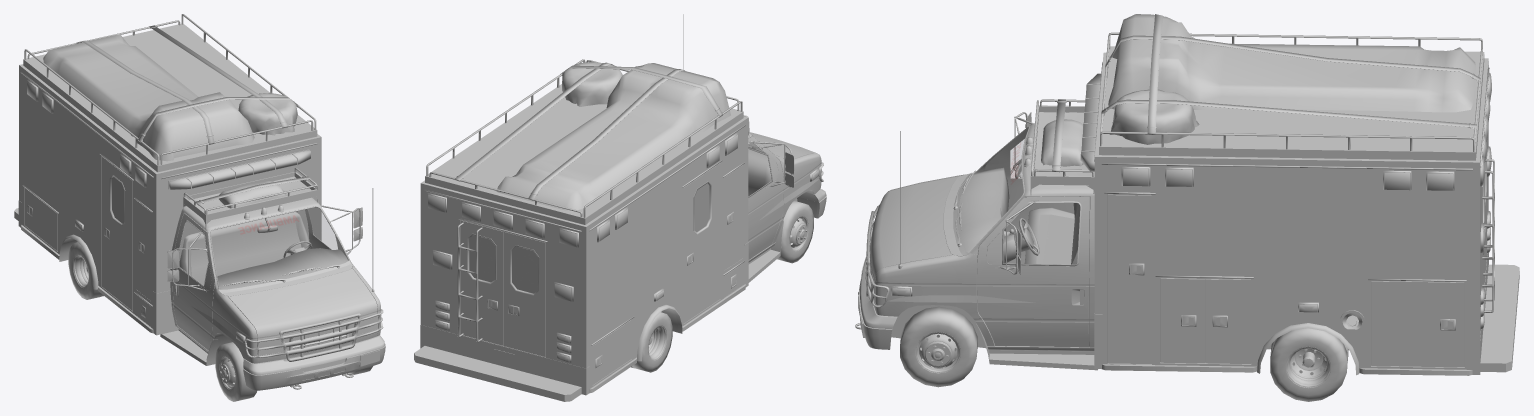
The model's file is Military_Ambulance_Truck.fbx.
3 views of the same model, side by side, from view 1: azimuth 30°, elevation 25°; view 2: azimuth 150°, elevation 25°; view 3: azimuth 270°, elevation 25° (orthographic). The views are drawn at different scales.
Parts seen in each view (by area): view 1: truck.001, cargo.001, salon.001, plastic_parts.001, door_1.001, lights_1.001, metal_part.001, tyre_1.001, tyre_2.001, door_2.001, lights.001; view 2: truck.001, cargo.001, metal_part.001, plastic_parts.001, door_1.001, lights_1.001, lights.001, tyre_1.001, tyre_2.001, salon.001; view 3: truck.001, cargo.001, door_2.001, metal_part.001, salon.001, plastic_parts.001, tyre_4.001, tyre_3.001, lights_1.001, door_1.001, lights.001.
Part boxes in pixels (bbox=[...]): truck.001: bbox=[19, 14, 383, 389]; cargo.001: bbox=[43, 25, 310, 208]; salon.001: bbox=[179, 209, 348, 289]; plastic_parts.001: bbox=[27, 175, 385, 390]; door_1.001: bbox=[167, 213, 215, 350]; lights_1.001: bbox=[27, 81, 381, 356]; metal_part.001: bbox=[14, 200, 232, 365]; tyre_1.001: bbox=[215, 342, 256, 401]; tyre_2.001: bbox=[68, 242, 103, 299]; door_2.001: bbox=[305, 205, 362, 257]; lights.001: bbox=[26, 79, 309, 343]; truck.001: bbox=[420, 14, 823, 388]; cargo.001: bbox=[454, 62, 730, 211]; metal_part.001: bbox=[414, 190, 817, 401]; plastic_parts.001: bbox=[467, 145, 826, 367]; door_1.001: bbox=[748, 136, 794, 259]; lights_1.001: bbox=[428, 134, 821, 362]; lights.001: bbox=[427, 133, 819, 362]; tyre_1.001: bbox=[777, 201, 813, 263]; tyre_2.001: bbox=[631, 312, 672, 372]; salon.001: bbox=[748, 149, 771, 196]; truck.001: bbox=[855, 32, 1494, 369]; cargo.001: bbox=[1041, 14, 1480, 172]; door_2.001: bbox=[977, 196, 1089, 347]; metal_part.001: bbox=[890, 252, 1519, 375]; salon.001: bbox=[958, 127, 1080, 264]; plastic_parts.001: bbox=[858, 126, 1486, 375]; tyre_4.001: bbox=[900, 306, 977, 387]; tyre_3.001: bbox=[1270, 328, 1348, 401]; lights_1.001: bbox=[871, 73, 1491, 327]; door_1.001: bbox=[985, 112, 1074, 263]; lights.001: bbox=[891, 73, 1490, 328].
Bounding box in the file's own units: 137 × 153 × 312.
